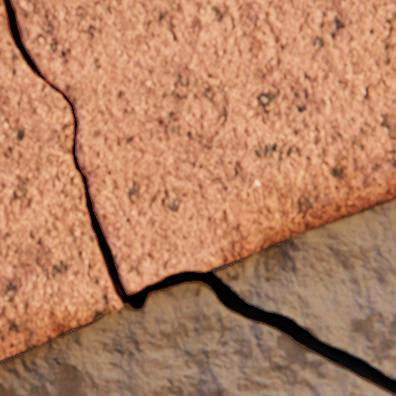broken_brick: (12, 0, 395, 292), (0, 1, 122, 358)
crack: (0, 0, 395, 395), (93, 309, 98, 314)
